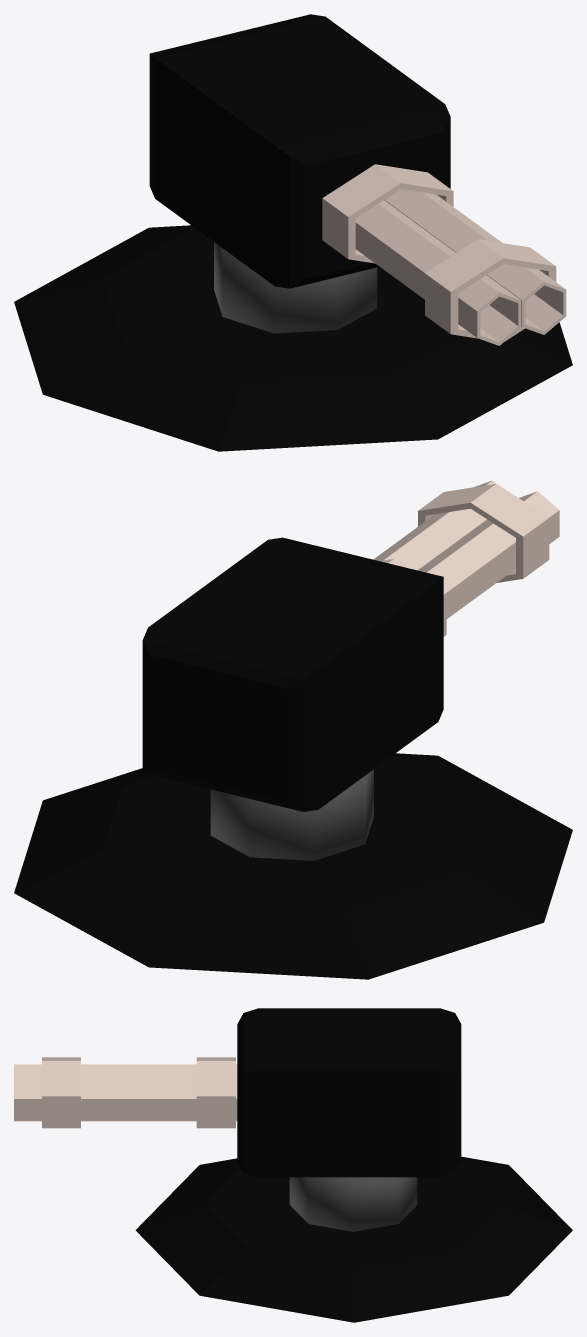
Rendered from SK_Wpn_Gun_02.fbx.
3 renders of one model, top to bottom at view 1: azimuth 30°, elevation 25°; view 2: azimuth 150°, elevation 25°; view 3: azimuth 270°, elevation 25°, orthographic. The views are drawn at different scales.
Visible parts, largest first — view 1: Wpn_weapon base_ rotaty, Wpn_weapon base; view 2: Wpn_weapon base_ rotaty, Wpn_weapon base; view 3: Wpn_weapon base_ rotaty, Wpn_weapon base.
Part boxes in pixels (x1,y1,x2,y2): Wpn_weapon base_ rotaty: (149, 14, 566, 345); Wpn_weapon base: (14, 225, 572, 451); Wpn_weapon base_ rotaty: (142, 480, 559, 860); Wpn_weapon base: (14, 753, 572, 979); Wpn_weapon base_ rotaty: (14, 1008, 461, 1231); Wpn_weapon base: (135, 1156, 572, 1322).
Size of the model in its own units: 0.7184 by 0.3477 by 0.9178.
Materials: 2 (2 with a texture image).
